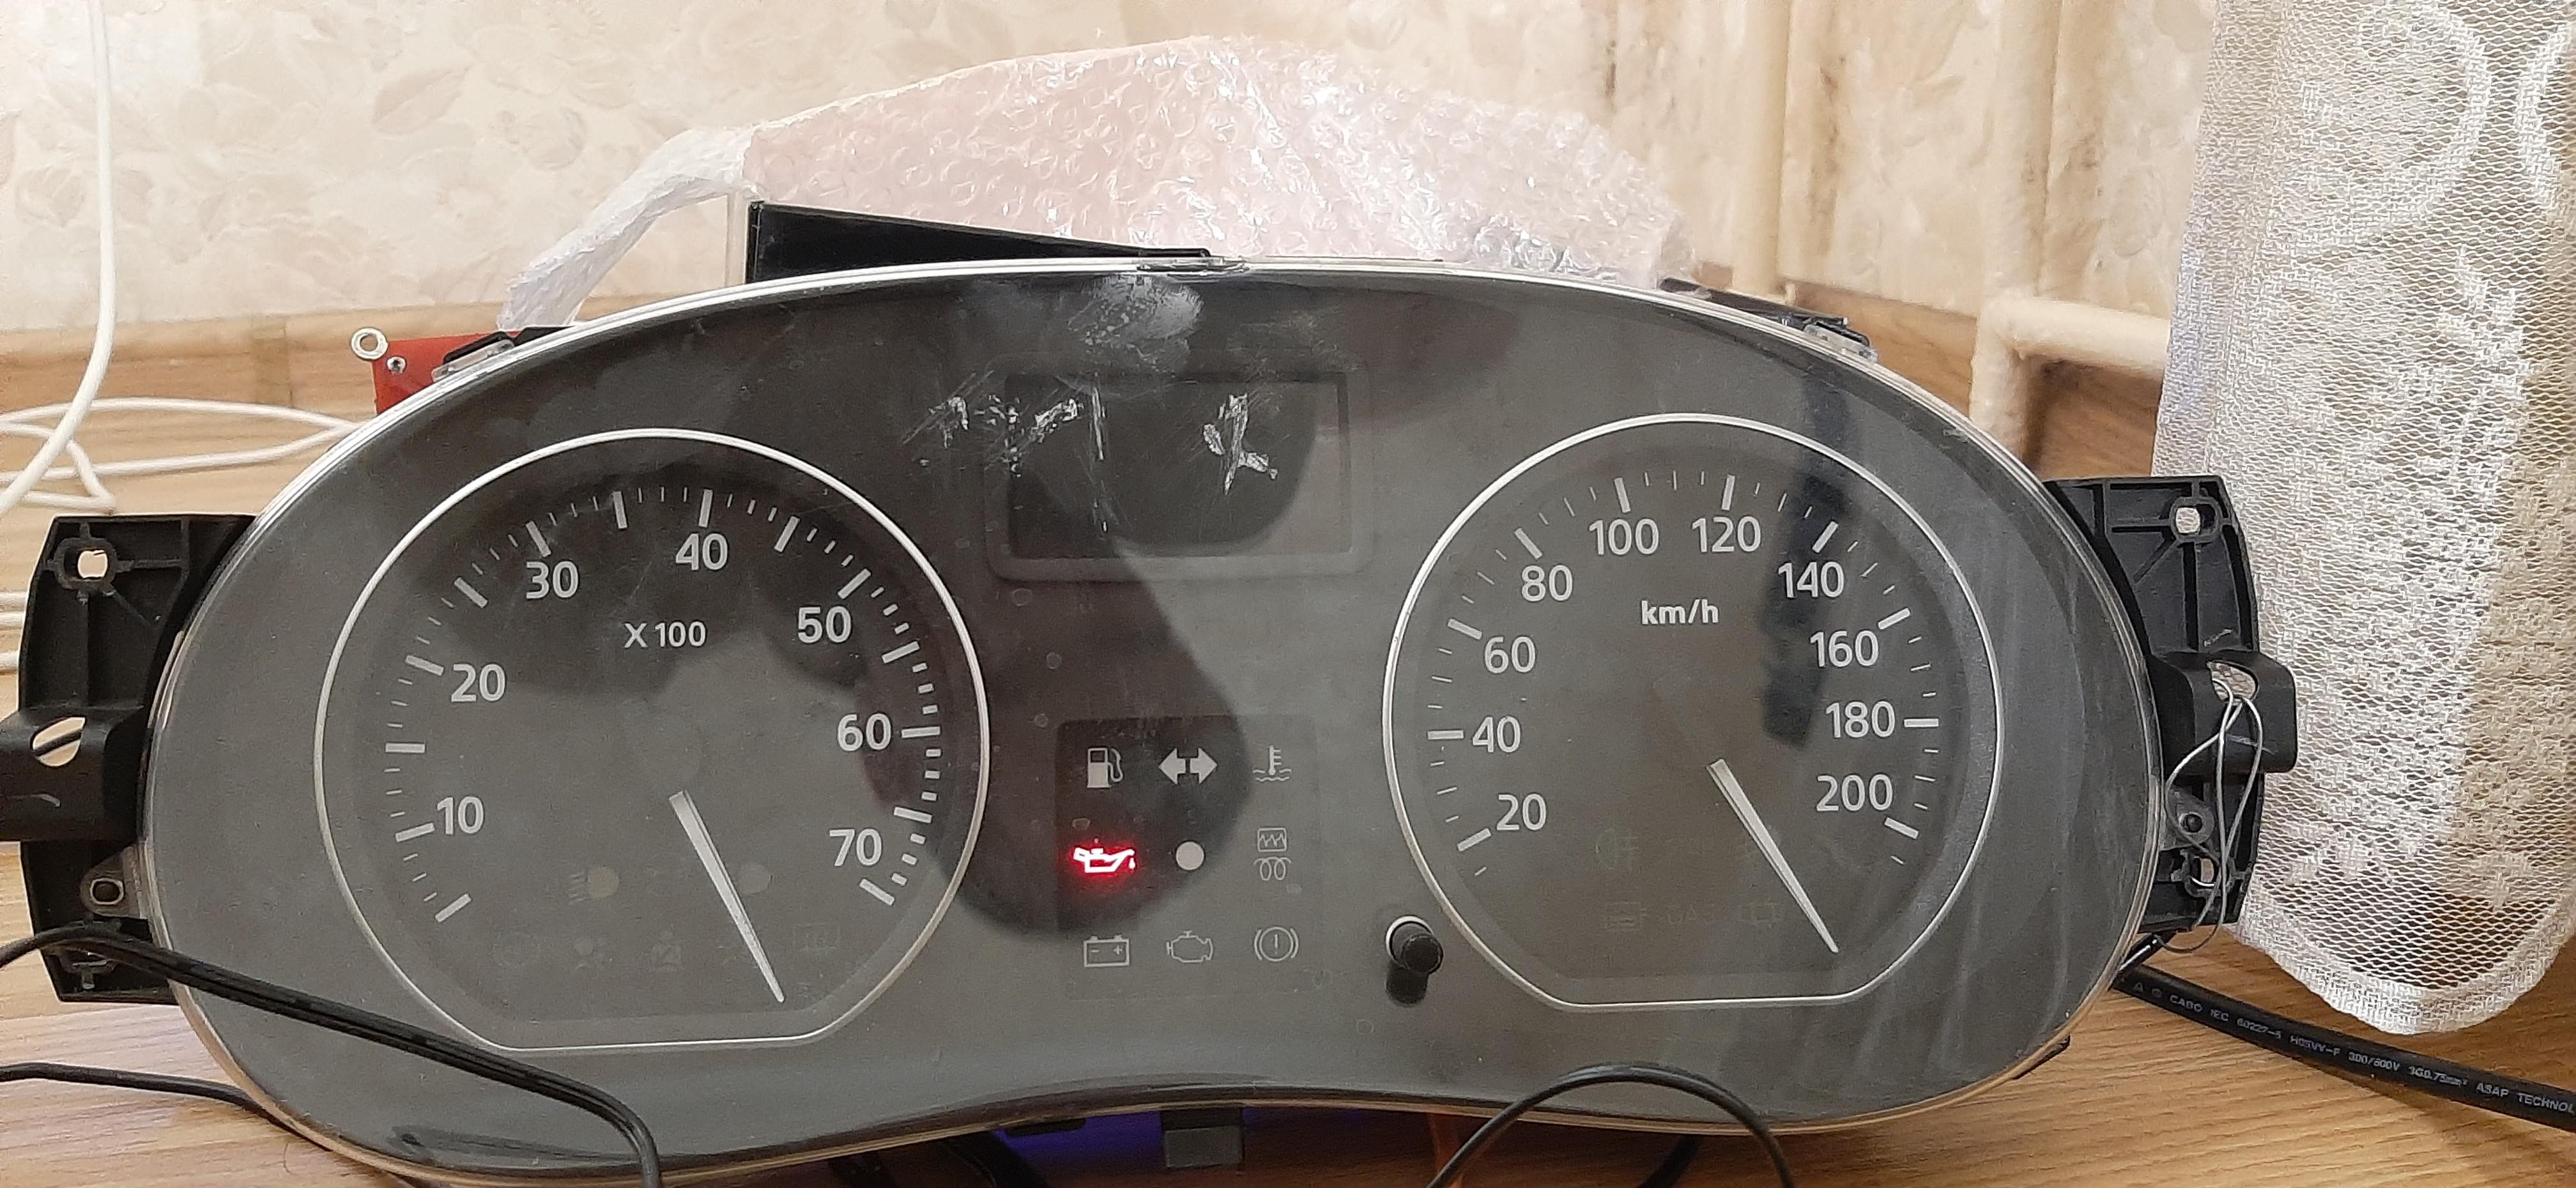oil7: (1069, 845, 1138, 874)
